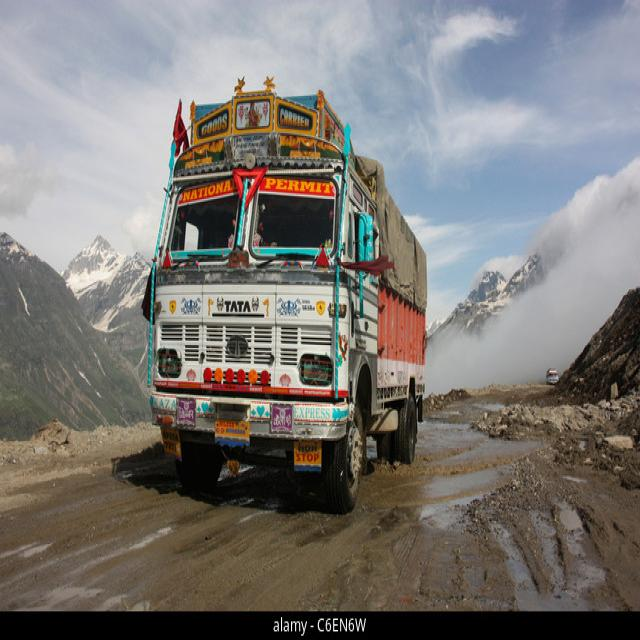normal_truck: (148, 81, 426, 513)
